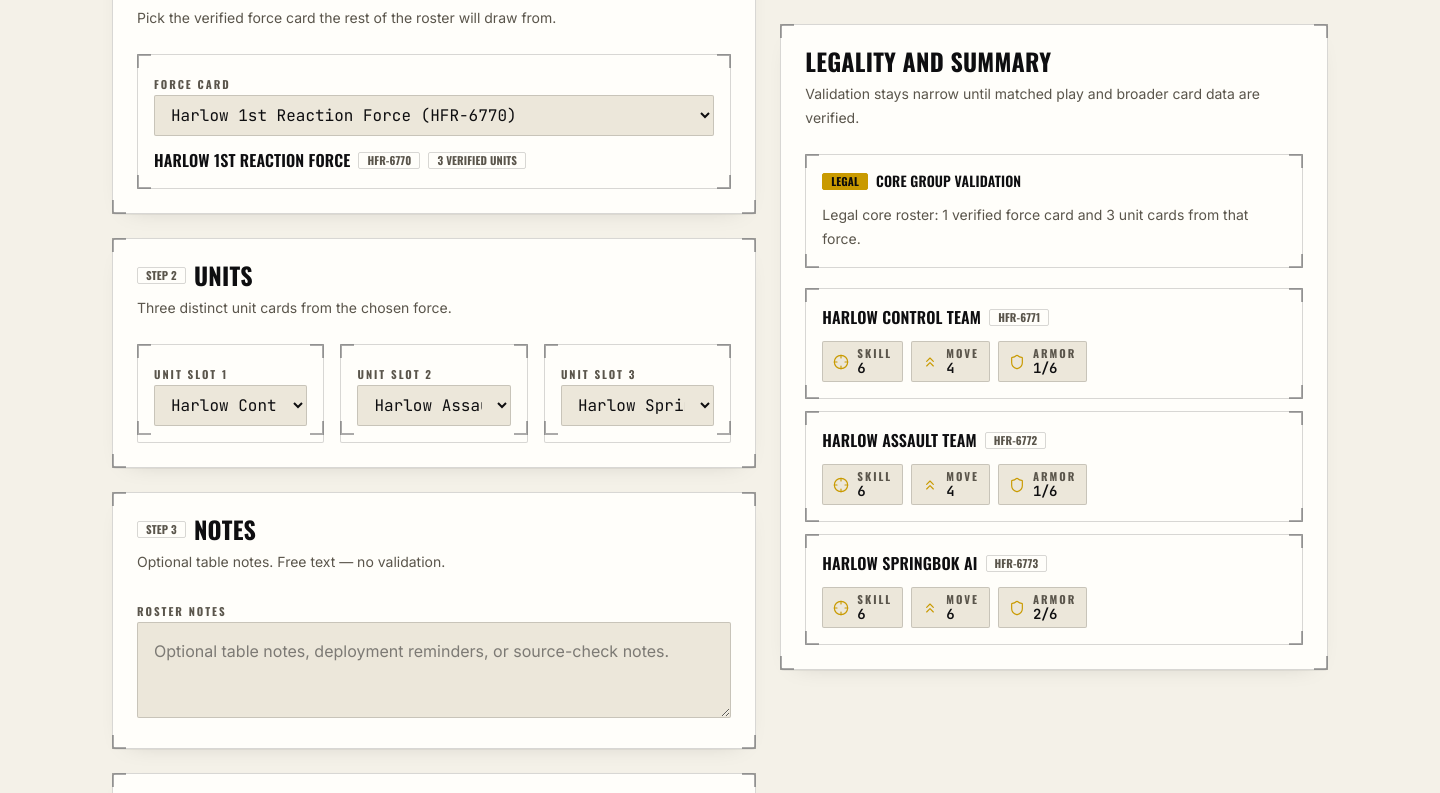
it: App smoke test › flags duplicate unit selections as illegal in the builder draft
The width and height of the screenshot is (1440, 793).
(page scrolled)
Select "Harlow Control Team (HFR-6771)" in the dropdown labelled "Unit slot 2" at (434, 406), box left=357, top=385, right=511, bottom=426
(page scrolled)
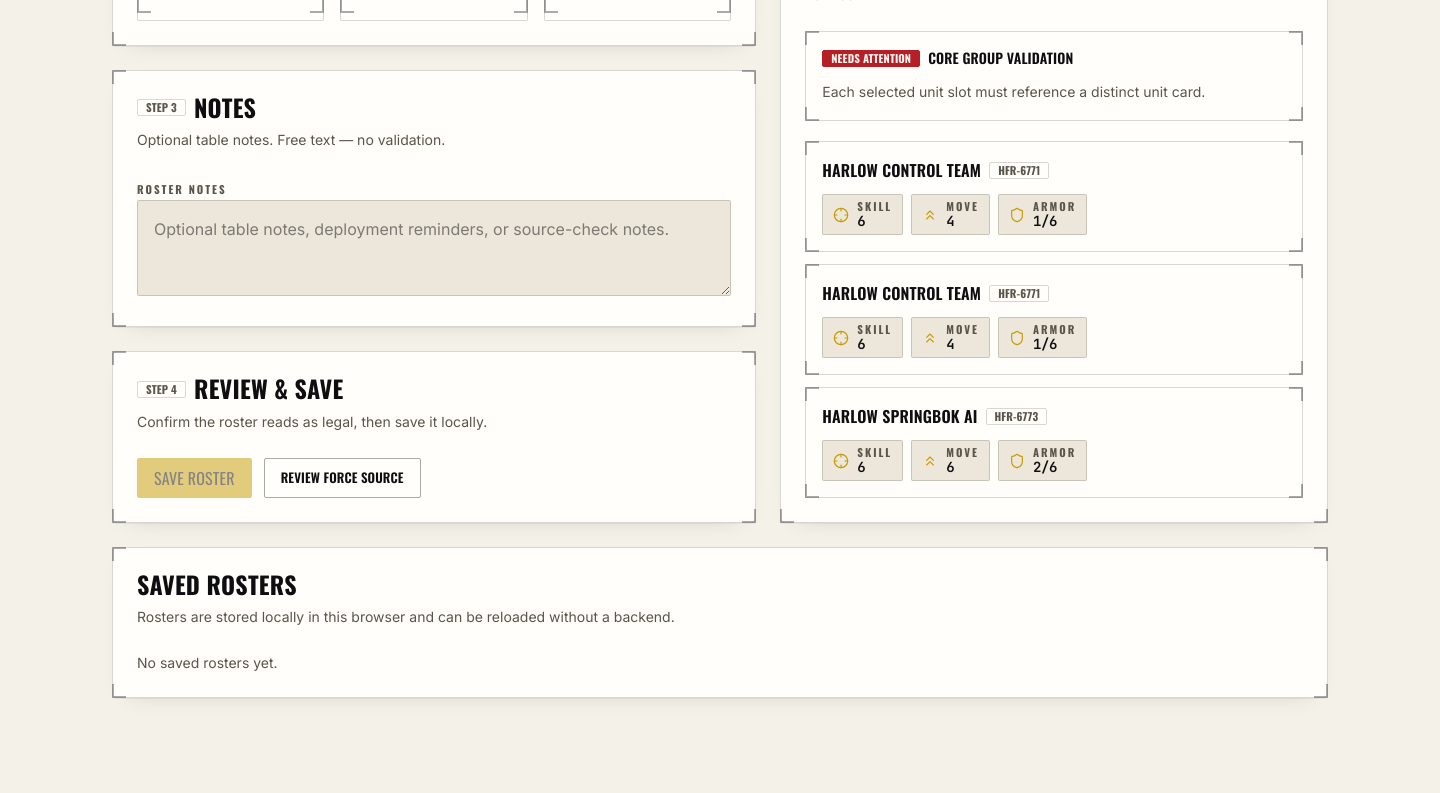
Expected: the text "Each selected unit slot must reference a distinct unit card." is shown, left=822, top=83, right=1205, bottom=100
Expected: the button "Save roster" is disabled, left=137, top=458, right=252, bottom=498
